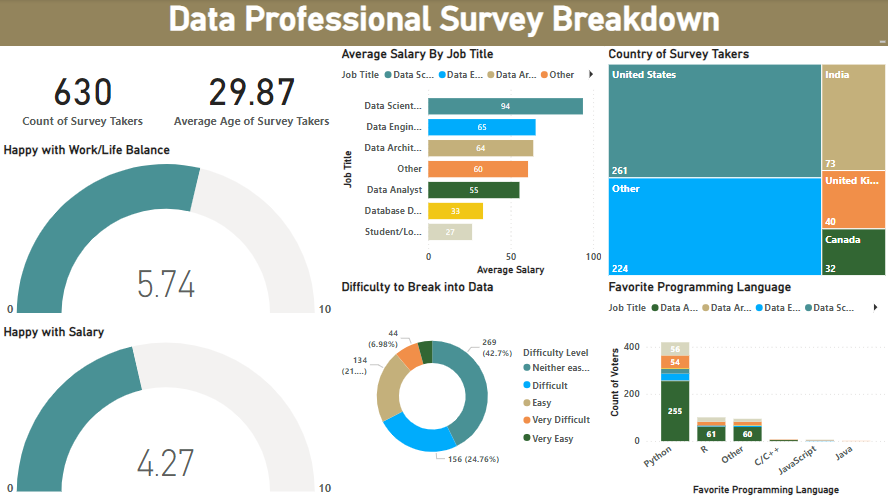

The page's visual inventory and layout, read from the dashboard file:
{"tool":"powerbi","page":{"name":"Page 1","canvas":[1280,720],"ordinal":0},"visuals":[{"type":"textbox","title":"Data Professional Survey Breakdown","box":[0,0,1280.2,67.7],"z":0},{"type":"card","fields":{"Values":["Count(Data Professional Survey.Unique ID)"]},"box":[0,67.7,237.6,138.2],"z":1},{"type":"card","fields":{"Values":["Avg(Data Professional Survey.Q10 - Current Age)"]},"box":[237.6,67.7,249.1,138.2],"z":2},{"type":"barChart","title":"Average Salary By Job Title","fields":{"Y":["Avg(Data Professional Survey.Average Salary)"],"Category":["Data Professional Survey.Q1 - Which Title Best Fits your Current Role?.1"],"Series":["Data Professional Survey.Q1 - Which Title Best Fits your Current Role?.1"]},"box":[486.7,67.7,384.5,335.5],"z":3},{"type":"columnChart","title":"Favorite Programming Language","fields":{"Category":["Data Professional Survey.Q5 - Favorite Programming Language.1"],"Y":["CountNonNull(Data Professional Survey.Unique ID)"],"Series":["Data Professional Survey.Q1 - Which Title Best Fits your Current Role?.1"]},"box":[871.2,403.2,409,316.8],"z":4},{"type":"treemap","title":"Country of Survey Takers","fields":{"Group":["Data Professional Survey.Q11 - Which Country do you live in?.1"],"Values":["CountNonNull(Data Professional Survey.Q11 - Which Country do you live in?.1)"]},"box":[871.2,67.7,409,335.5],"z":5},{"type":"gauge","title":"Happy with Work/Life Balance","fields":{"Y":["Avg(Data Professional Survey.Q6 - How Happy are you in your Current Position with the following? (Work/Life Balance))"],"MinValue":["Min(Data Professional Survey.Q6 - How Happy are you in your Current Position with the following? (Work/Life Balance))1"],"MaxValue":["Max(Data Professional Survey.Q6 - How Happy are you in your Current Position with the following? (Work/Life Balance))2"]},"box":[0,205.9,486.7,262.1],"z":6},{"type":"gauge","title":"Happy with Salary","fields":{"Y":["Avg(Data Professional Survey.Q6 - How Happy are you in your Current Position with the following? (Salary))"],"MinValue":["Min(Data Professional Survey.Q6 - How Happy are you in your Current Position with the following? (Salary))"],"MaxValue":["Max(Data Professional Survey.Q6 - How Happy are you in your Current Position with the following? (Salary))"]},"box":[0,468,486.7,252],"z":7},{"type":"donutChart","title":"Difficulty to Break into Data","fields":{"Category":["Data Professional Survey.Q7 - How difficult was it for you to break into Data?"],"Y":["CountNonNull(Data Professional Survey.Q7 - How difficult was it for you to break into Data?)"]},"box":[486.7,403.2,384.5,316.8],"z":8}]}

Visuals, with their boxes in screenshot pixels (x1, y1, x2, y2), scaled from the page's 1280x720 canvas onto the 888x496 screenshot:
"Data Professional Survey Breakdown" textbox: bbox=[0, 0, 887, 47]
card - Count(Data Professional Survey.Unique ID): bbox=[0, 47, 165, 142]
card - Avg(Data Professional Survey.Q10 - Current Age): bbox=[165, 47, 338, 142]
"Average Salary By Job Title" barChart: bbox=[338, 47, 604, 278]
"Favorite Programming Language" columnChart: bbox=[604, 278, 887, 495]
"Country of Survey Takers" treemap: bbox=[604, 47, 887, 278]
"Happy with Work/Life Balance" gauge: bbox=[0, 142, 338, 322]
"Happy with Salary" gauge: bbox=[0, 322, 338, 495]
"Difficulty to Break into Data" donutChart: bbox=[338, 278, 604, 495]
